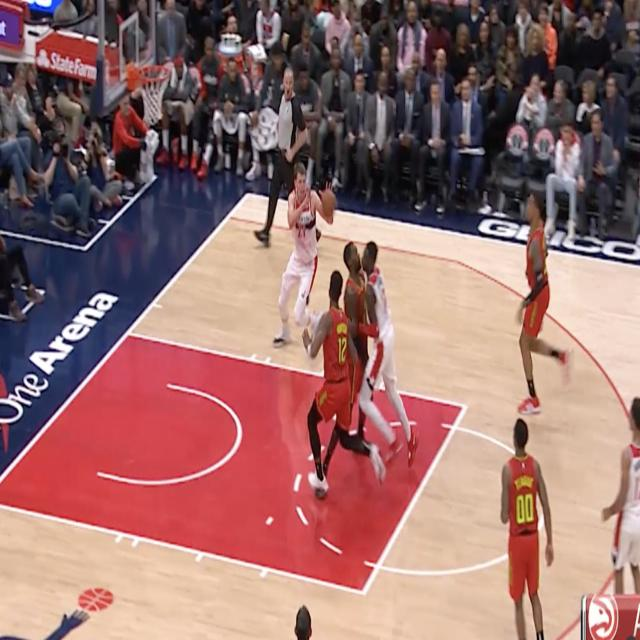Foul: (327, 233, 419, 477)
